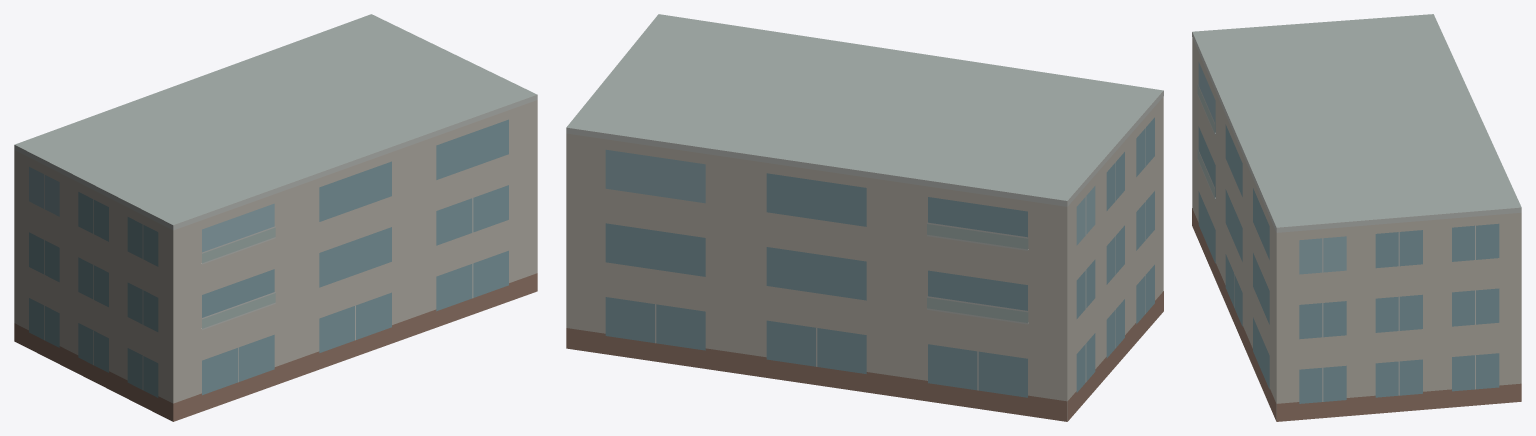
Rendered from survey-upis-32848119.glb.
The picture shows the model from 3 angles, left to right: view 1: azimuth 30°, elevation 25°; view 2: azimuth 150°, elevation 25°; view 3: azimuth 270°, elevation 25°; orthographic projection. The views are drawn at different scales.
Parts seen in each view (by area): view 1: survey-upis-32848119.tmp; view 2: survey-upis-32848119.tmp; view 3: survey-upis-32848119.tmp.
Boxes of the visible parts, <box> form: survey-upis-32848119.tmp: <box>14,14,537,421</box>; survey-upis-32848119.tmp: <box>566,14,1163,421</box>; survey-upis-32848119.tmp: <box>1192,14,1521,421</box>.
Size of the model in its own units: 21.61 by 9.15 by 14.09.
